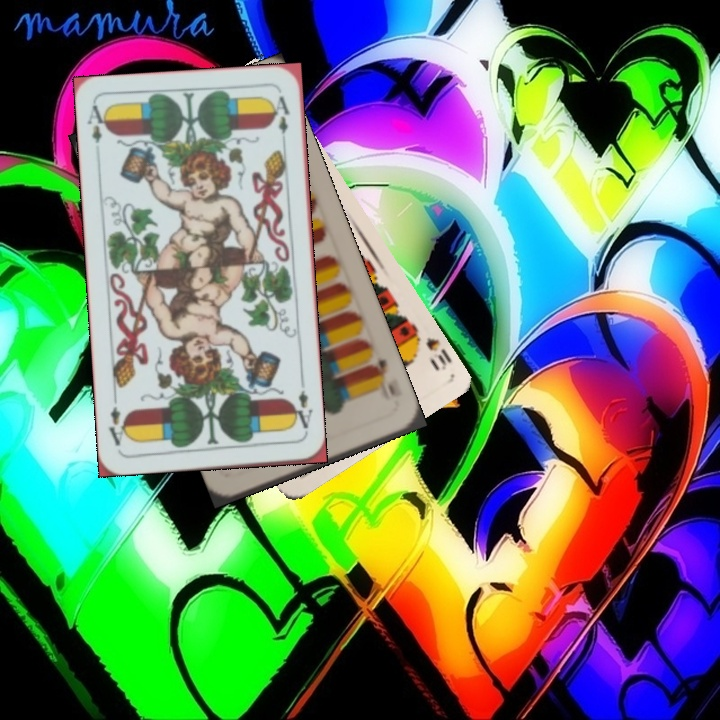E10: (366, 355, 398, 403)
EA: (287, 378, 315, 437), (83, 101, 111, 146)
S10: (408, 325, 454, 374)
